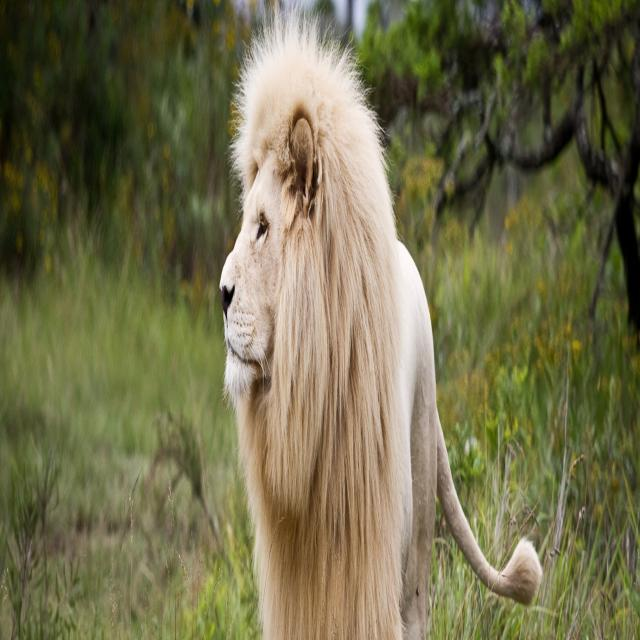Lion: (225, 16, 539, 640)
